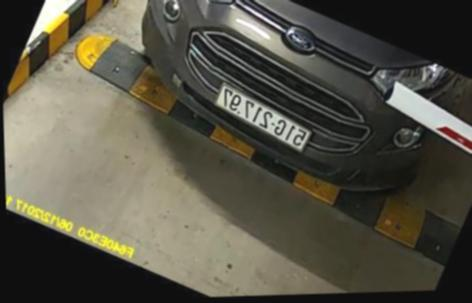License_Plate: (211, 80, 315, 154)
